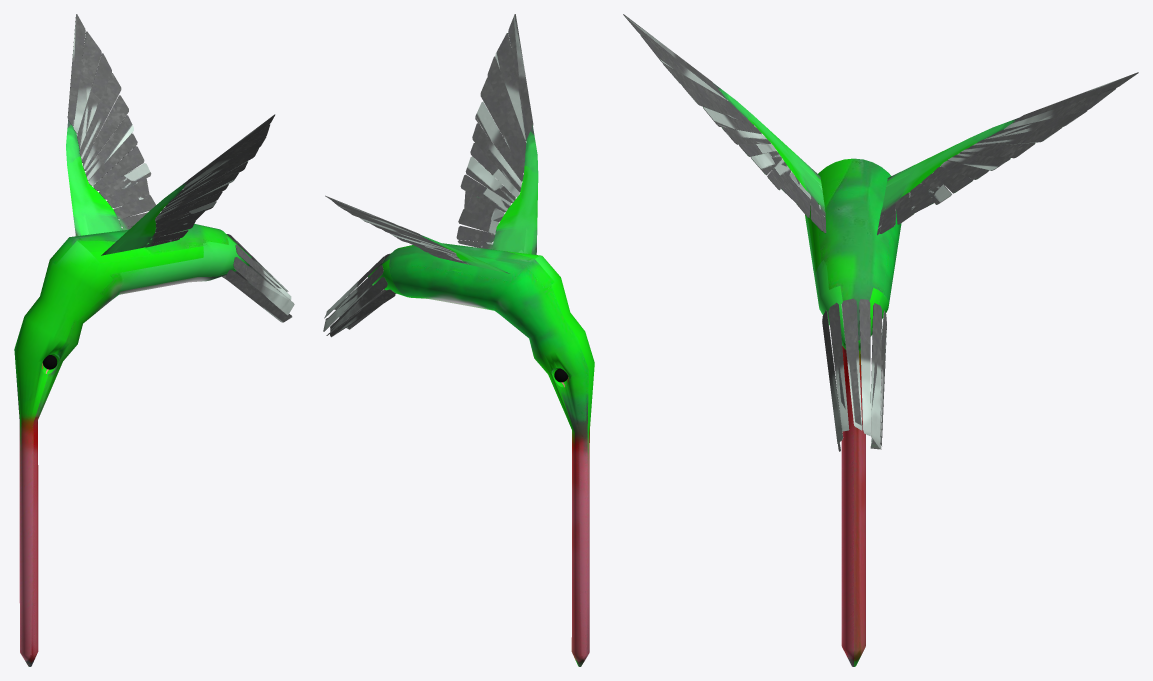
Rendered from colibriExportColorVivo.glb.
The picture shows the model from 3 angles, left to right: view 1: azimuth 30°, elevation 25°; view 2: azimuth 150°, elevation 25°; view 3: azimuth 270°, elevation 25°; orthographic projection. The views are drawn at different scales.
Parts seen in each view (by area): view 1: Cylinder.001, Plane.015, Plane.014, Plane.016; view 2: Cylinder.001, Plane.014, Plane.016, Plane.015; view 3: Cylinder.001, Plane.015, Plane.014, Plane.016.
Boxes of the visible parts, x1,y1,x2,y2 form: Cylinder.001: [14, 224, 251, 666]; Plane.015: [66, 14, 156, 236]; Plane.014: [101, 114, 275, 255]; Plane.016: [222, 234, 294, 322]; Cylinder.001: [368, 243, 594, 666]; Plane.014: [456, 14, 538, 254]; Plane.016: [323, 253, 396, 337]; Plane.015: [325, 195, 509, 273]; Cylinder.001: [805, 158, 901, 666]; Plane.015: [877, 72, 1138, 235]; Plane.014: [623, 14, 826, 233]; Plane.016: [822, 298, 886, 451].
Size of the model in its own units: 4.85 by 9.8 by 6.1.
Materials: 3 (2 with a texture image).
